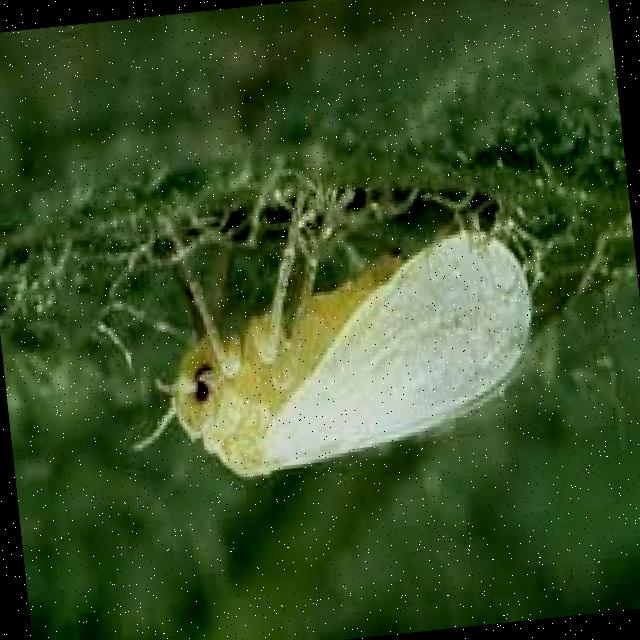whitefly: (95, 164, 558, 507)
